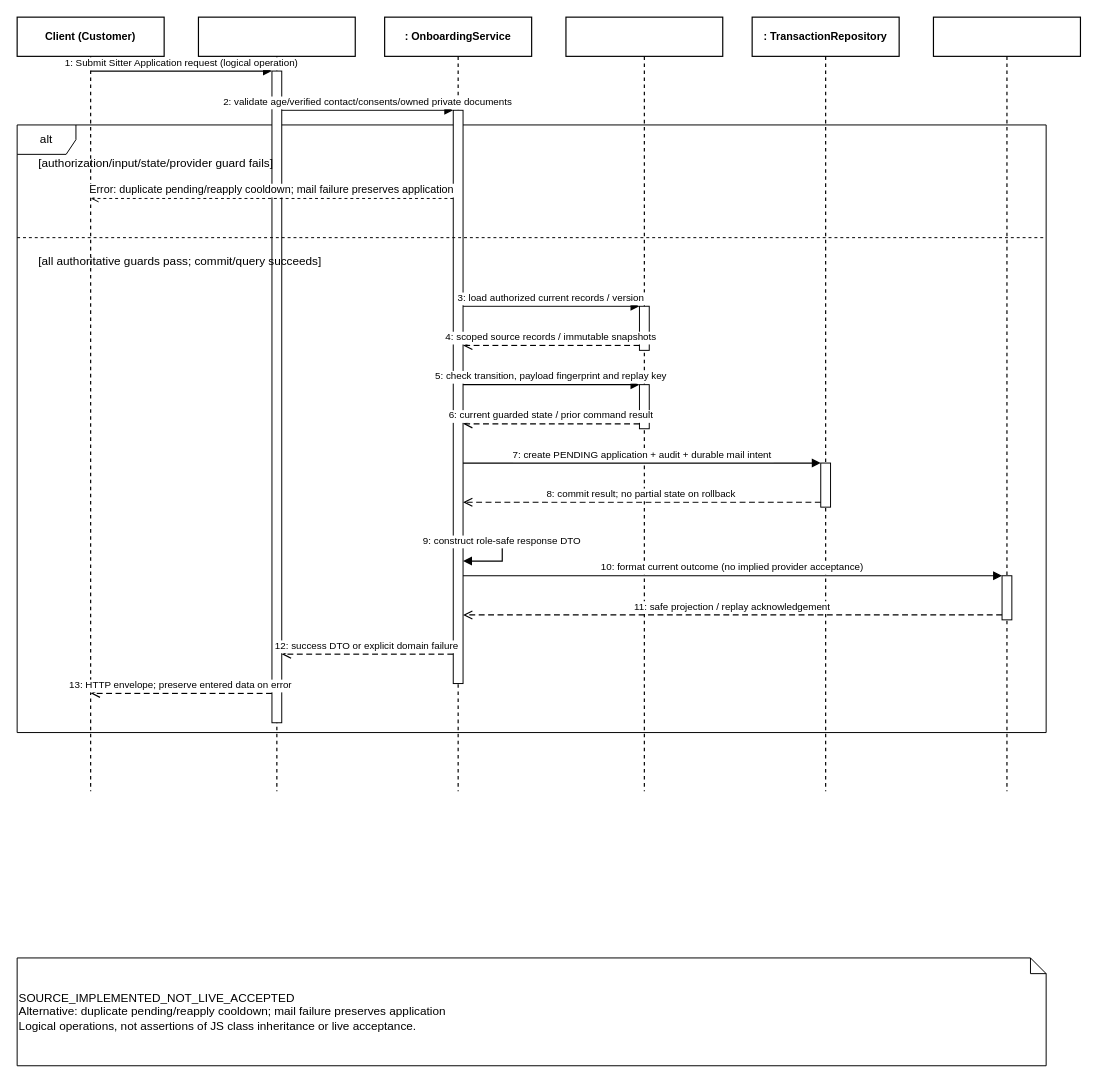
This 1099x1084 diagram has some shape labels left out. Each missing label, with the box of its shape:
: OnboardingHttpBoundary: (197, 16, 355, 791)
: ReadRepository: (565, 16, 723, 791)
: ResultProjection: (932, 16, 1081, 791)
